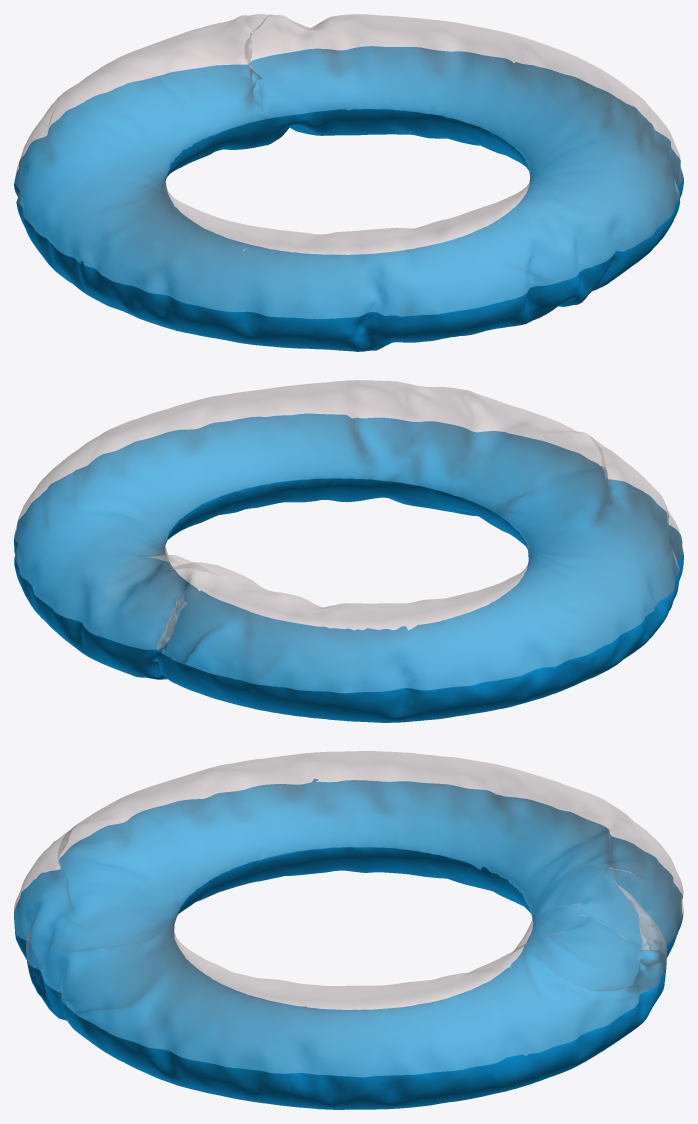
Rendered from pool_floatie.glb.
3 views of the same model, one above another, from view 1: azimuth 30°, elevation 25°; view 2: azimuth 150°, elevation 25°; view 3: azimuth 270°, elevation 25° (orthographic). The views are drawn at different scales.
Visible parts, largest first — view 1: Object_13, Object_14; view 2: Object_14, Object_13; view 3: Object_13, Object_14.
Boxes of the visible parts, x1,y1,x2,y2 form: Object_13: (14,46,683,351); Object_14: (15,14,683,318); Object_14: (14,380,683,692); Object_13: (14,413,683,722); Object_13: (14,778,682,1109); Object_14: (14,751,683,1076).
Bounding box in the file's own units: 0.8583 × 0.1677 × 0.8164.
